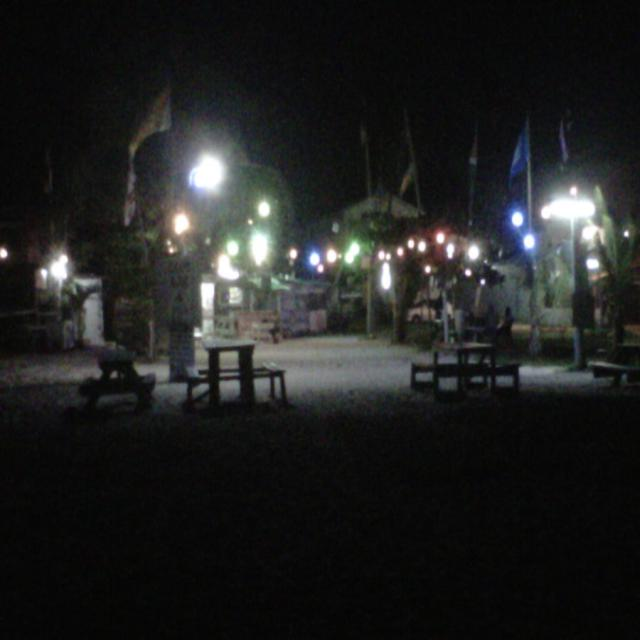Table: (96, 340, 164, 422), (194, 335, 262, 407), (427, 339, 499, 404)
chair: (407, 348, 535, 393), (185, 365, 287, 403)
